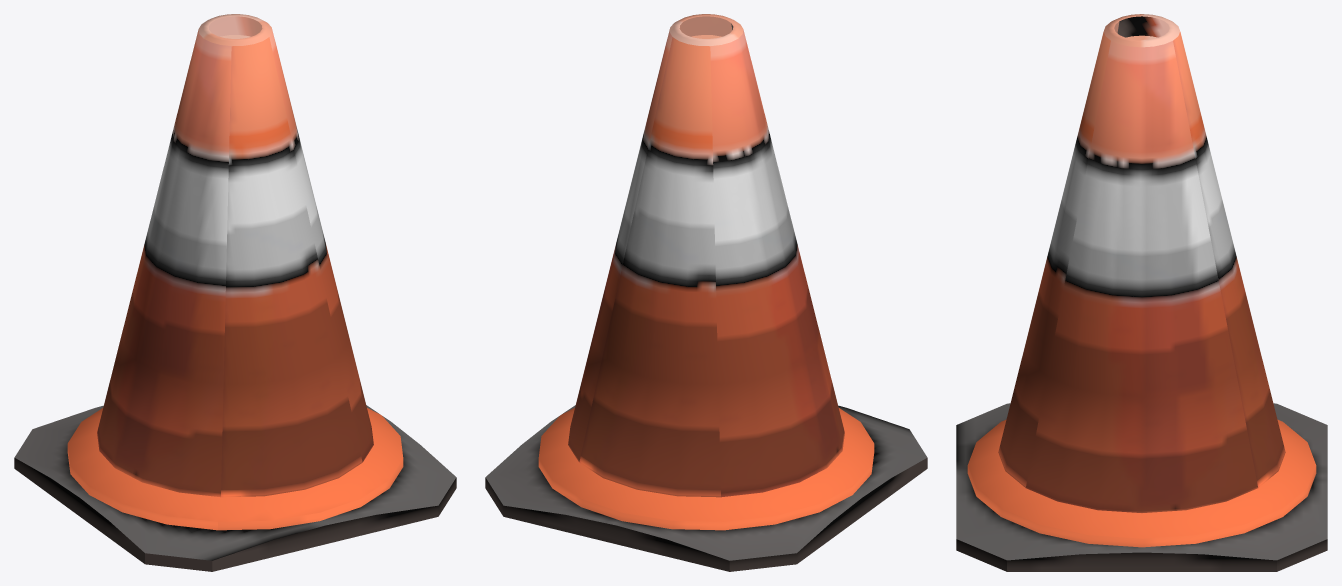
Rendered from TrafficCone.fbx.
3 renders of one model, left to right at view 1: azimuth 30°, elevation 25°; view 2: azimuth 150°, elevation 25°; view 3: azimuth 270°, elevation 25°, orthographic. The views are drawn at different scales.
Parts seen in each view (by area): view 1: TrafficCone:pCylinder1; view 2: TrafficCone:pCylinder1; view 3: TrafficCone:pCylinder1.
Boxes of the visible parts, x1,y1,x2,y2 form: TrafficCone:pCylinder1: (14,14,456,571); TrafficCone:pCylinder1: (485,14,927,571); TrafficCone:pCylinder1: (956,14,1327,571).
Size of the model in its own units: 76.71 by 106 by 76.71.
